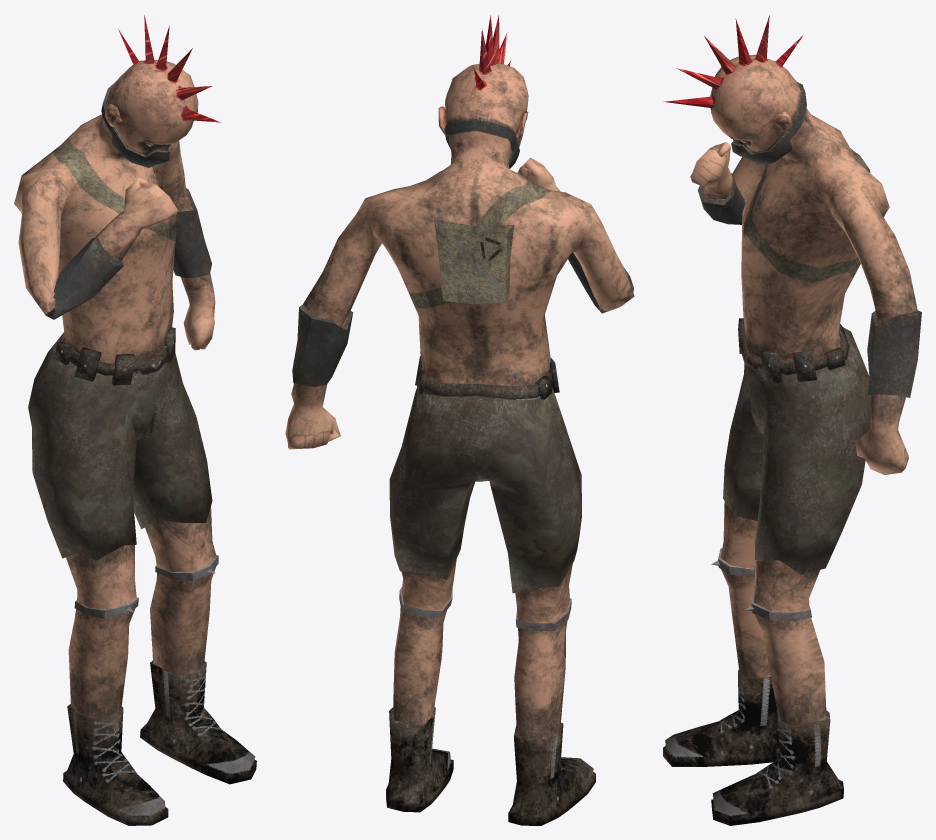
Rendered from Anim_perder_1_npc2.0045.obj.
The picture shows the model from 3 angles, left to right: view 1: azimuth 30°, elevation 25°; view 2: azimuth 150°, elevation 25°; view 3: azimuth 270°, elevation 25°; orthographic projection.
Parts seen in each view (by area): view 1: polySurface1; view 2: polySurface1; view 3: polySurface1.
Part boxes in pixels (left/top/right/bottom): polySurface1: left=14, top=15, right=256, bottom=825; polySurface1: left=285, top=15, right=634, bottom=825; polySurface1: left=663, top=15, right=921, bottom=825.
Bounding box in the file's own units: 3.45 × 9.81 × 3.
Materials: 2 (2 with a texture image).
